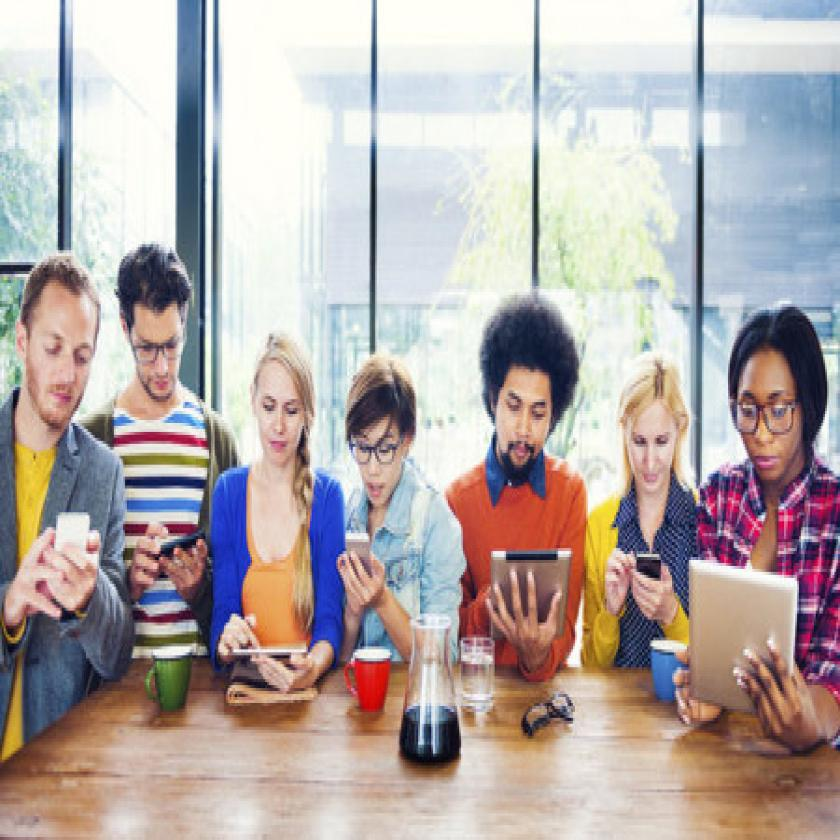Sin_casco: (479, 290, 569, 470), (728, 300, 818, 478), (22, 255, 103, 430), (119, 242, 190, 411), (346, 351, 418, 514), (244, 332, 313, 470), (621, 356, 681, 498)
